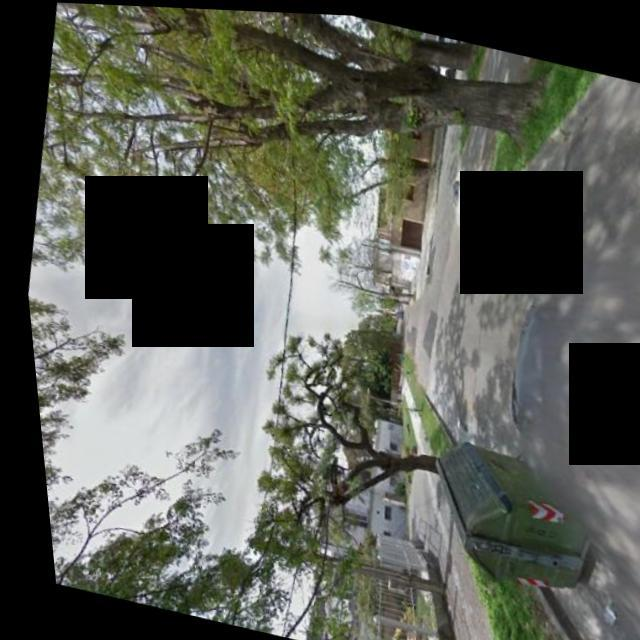bin: (397, 416, 613, 608)
